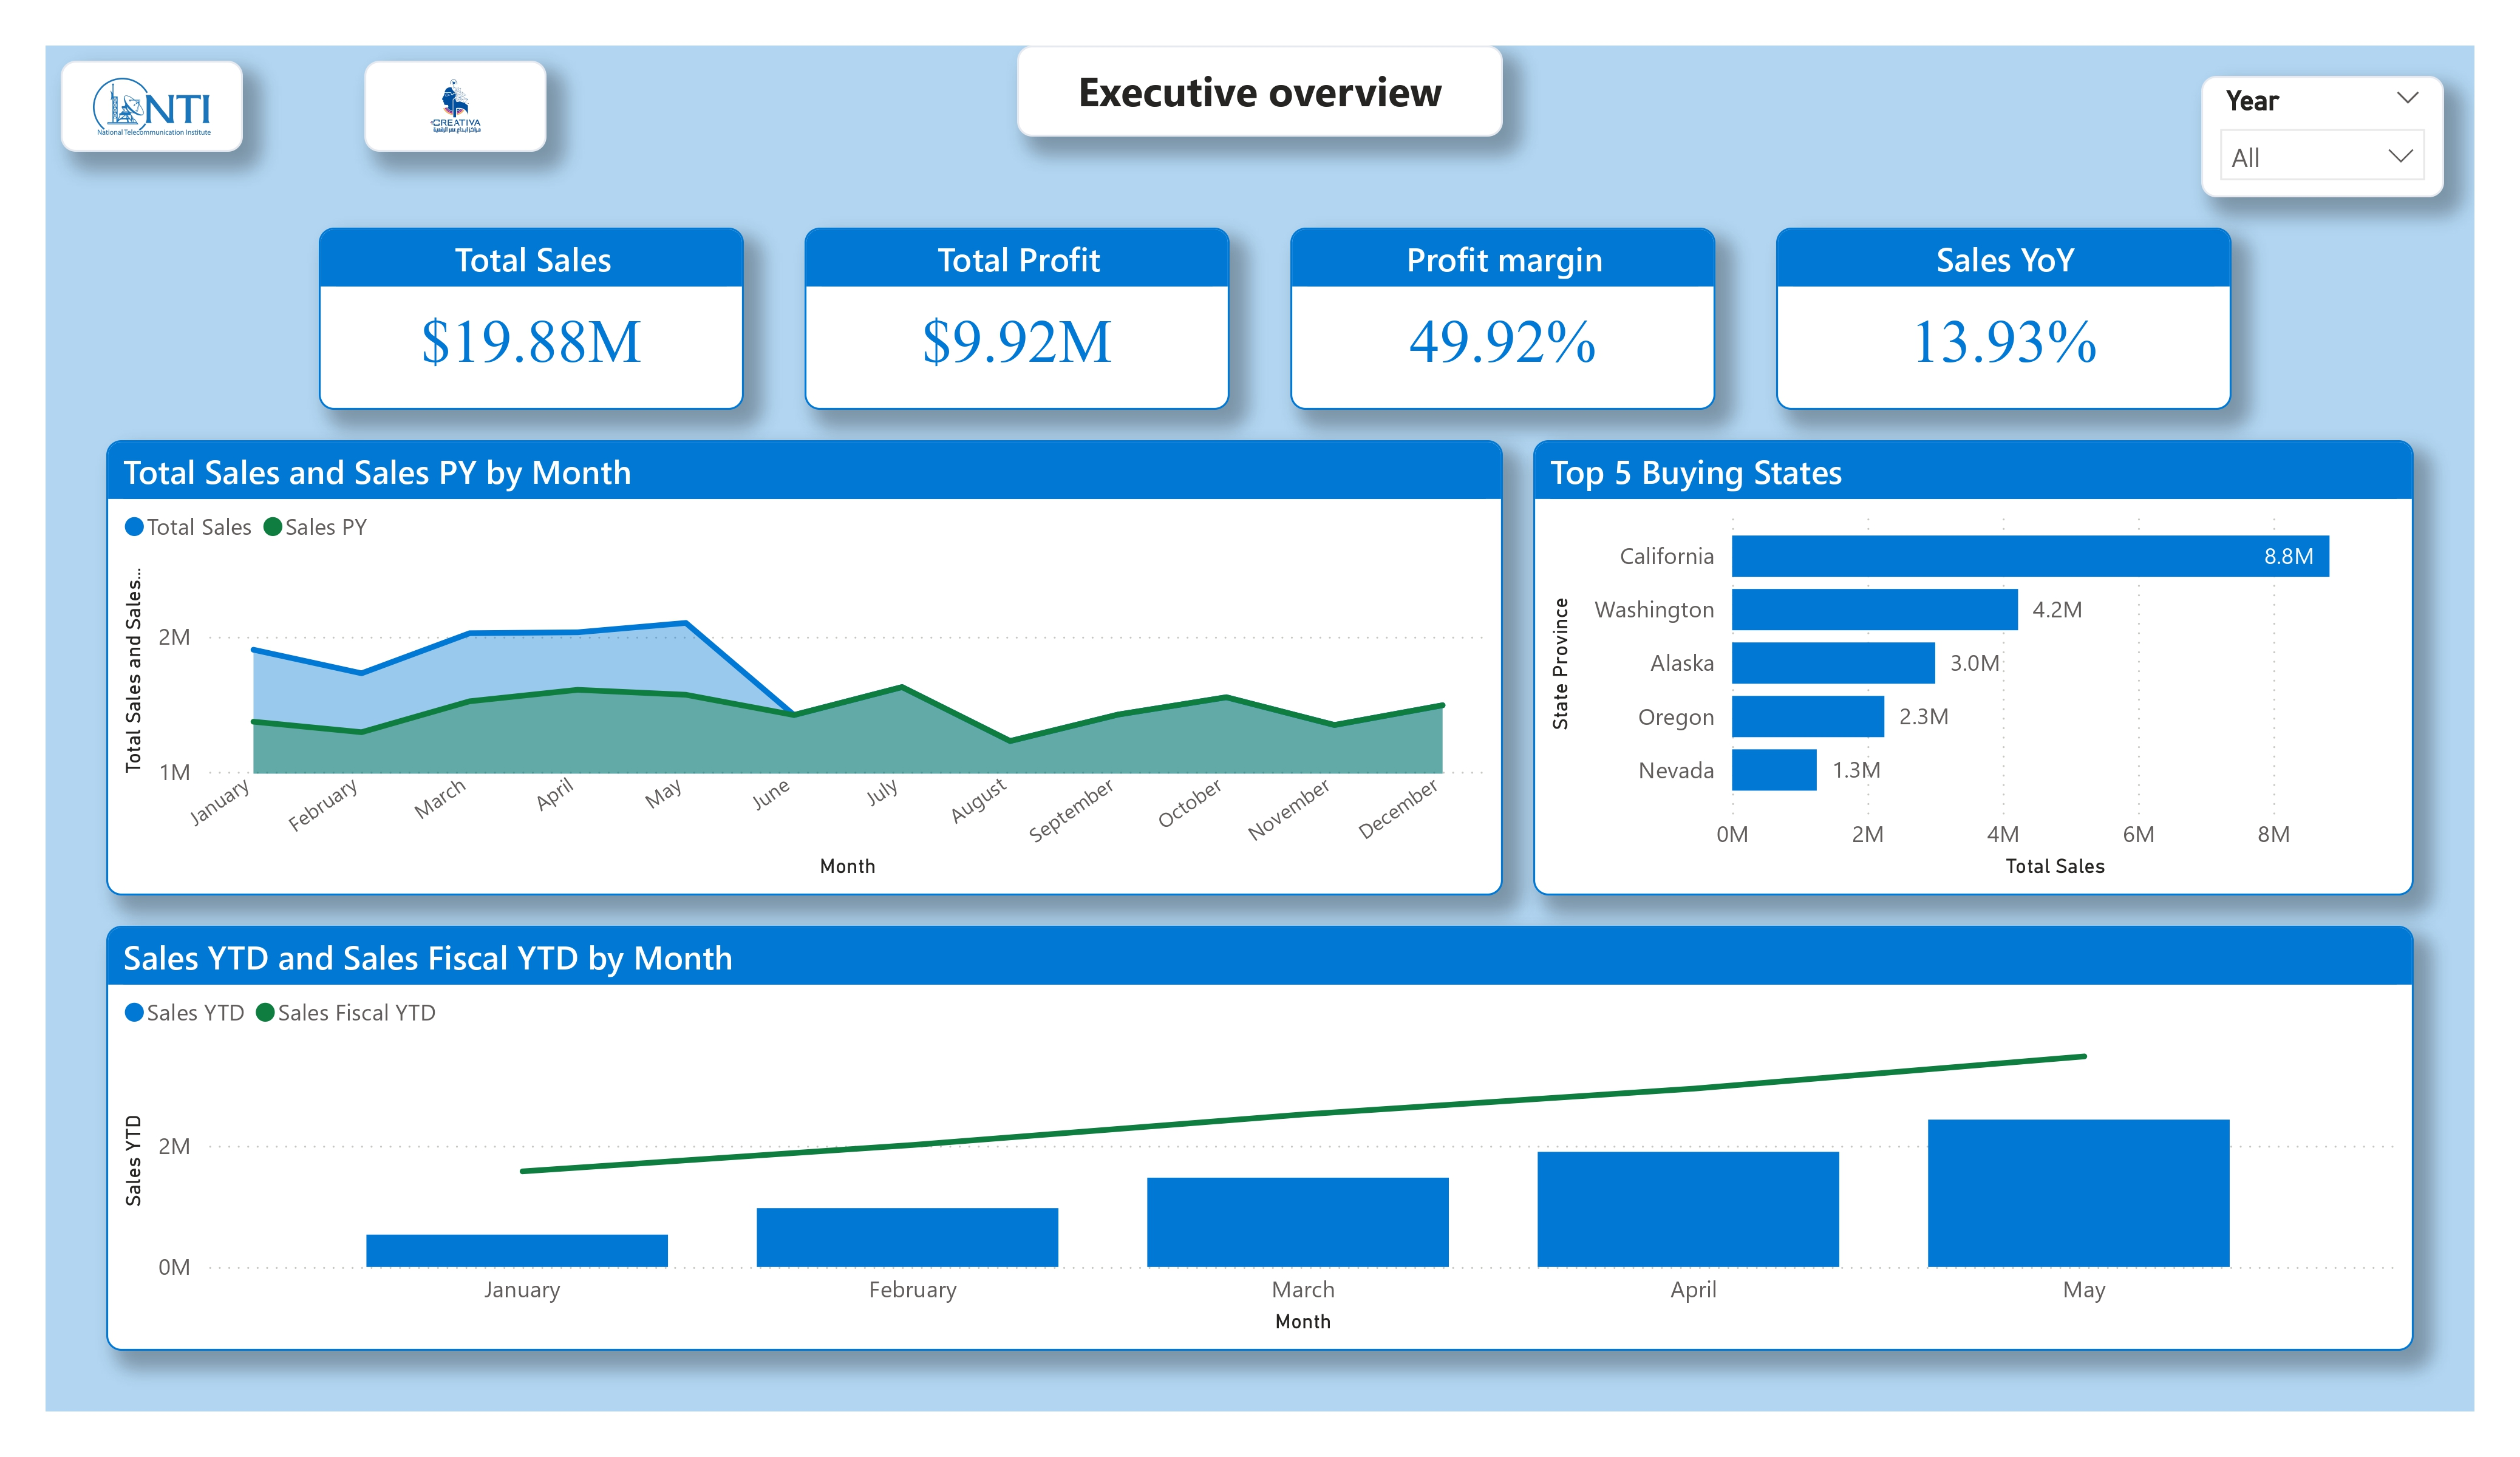

What the dashboard file says about the page in this screenshot:
{"tool":"powerbi","page":{"name":"Executive overview","canvas":[1280,720],"ordinal":0},"visuals":[{"type":"textbox","box":[512,0,256,48],"z":0},{"type":"image","box":[8,8,96,48],"z":1000},{"type":"image","box":[168,8,96,48],"z":2000},{"type":"card","title":"Total Sales","fields":{"Values":["Core Sales & Profit.Total Sales"]},"box":[144,96,224,96],"z":3000},{"type":"card","title":"Total Profit","fields":{"Values":["Core Sales & Profit.Total Profit"]},"box":[400,96,224,96],"z":4000},{"type":"card","title":"Profit margin","fields":{"Values":["Core Sales & Profit.Profit Margin %"]},"box":[656,96,224,96],"z":5000},{"type":"card","title":"Sales YoY","fields":{"Values":["Time Intelligence.Sales YoY %"]},"box":[912,96,240,96],"z":6000},{"type":"areaChart","fields":{"Category":["DimDate.Month"],"Y":["Core Sales & Profit.Total Sales","Time Intelligence.Sales PY"]},"box":[32,208,736,240],"z":7000},{"type":"barChart","title":"Top 5 Buying States","fields":{"Category":["DimCity.State Province Hierarchy.State Province","DimCity.State Province Hierarchy.City"],"Y":["Core Sales & Profit.Total Sales"]},"box":[784,208,464,240],"z":8000},{"type":"lineClusteredColumnComboChart","fields":{"Category":["DimDate.Month"],"Y":["Time Intelligence.Sales YTD"],"Y2":["Fiscal.Sales Fiscal YTD"]},"box":[32,464,1216,224],"z":9000},{"type":"slicer","fields":{"Values":["DimDate.Calendar Year","DimDate.Fiscal Year Label"]},"box":[1136,16,128,64],"z":10000}]}

Visuals, with their boxes on the page's 1280x720 design canvas (x1, y1, x2, y2). These are canvas units, not pixel positions in the 2520x1457 screenshot, which may show the page scaled, cropped or inside an application window:
textbox: <region>512, 0, 768, 48</region>
image: <region>8, 8, 104, 56</region>
image: <region>168, 8, 264, 56</region>
"Total Sales" card: <region>144, 96, 368, 192</region>
"Total Profit" card: <region>400, 96, 624, 192</region>
"Profit margin" card: <region>656, 96, 880, 192</region>
"Sales YoY" card: <region>912, 96, 1152, 192</region>
areaChart - DimDate.Month x Core Sales & Profit.Total Sales: <region>32, 208, 768, 448</region>
"Top 5 Buying States" barChart: <region>784, 208, 1248, 448</region>
lineClusteredColumnComboChart - DimDate.Month x Time Intelligence.Sales YTD: <region>32, 464, 1248, 688</region>
slicer - DimDate.Calendar Year x DimDate.Fiscal Year Label: <region>1136, 16, 1264, 80</region>
